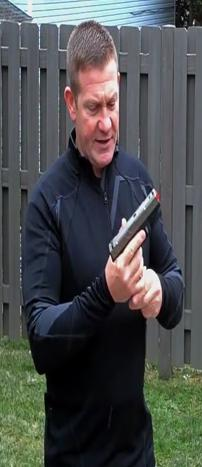pistol: (106, 187, 163, 288)
